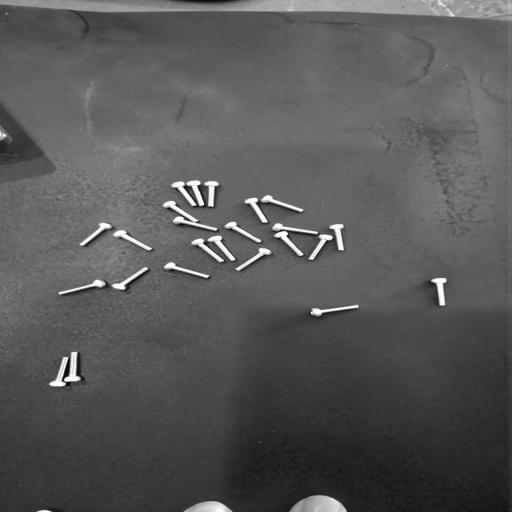Bolt: (112, 268, 148, 290), (236, 248, 271, 270), (114, 231, 152, 251), (191, 239, 224, 262), (225, 222, 262, 242), (80, 223, 112, 246), (163, 201, 198, 222), (59, 280, 106, 295), (208, 236, 236, 261), (164, 263, 209, 278), (308, 234, 333, 261), (275, 232, 303, 256), (261, 196, 303, 212), (173, 217, 218, 231), (172, 182, 197, 206), (245, 198, 268, 223), (311, 305, 358, 317), (273, 223, 318, 235), (50, 357, 68, 386), (64, 352, 81, 382), (186, 181, 204, 206), (431, 278, 446, 306), (204, 181, 219, 207), (329, 224, 344, 250)
